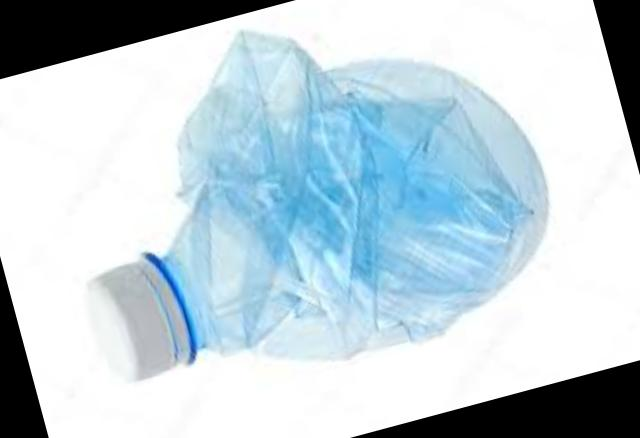plastic: (92, 34, 550, 383)
